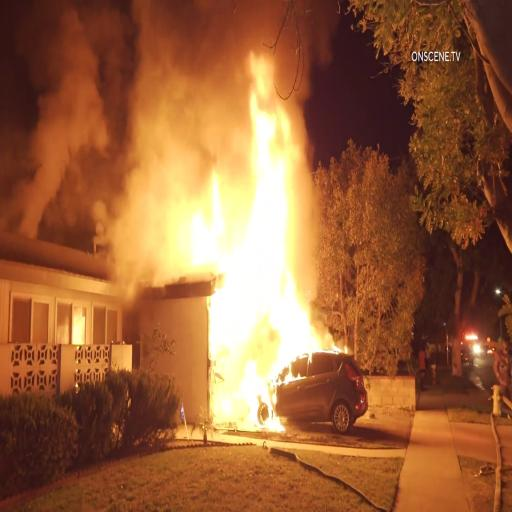fire: (212, 83, 309, 423), (183, 150, 238, 263)
smoke: (4, 3, 176, 254), (0, 0, 209, 146), (178, 2, 334, 72)
